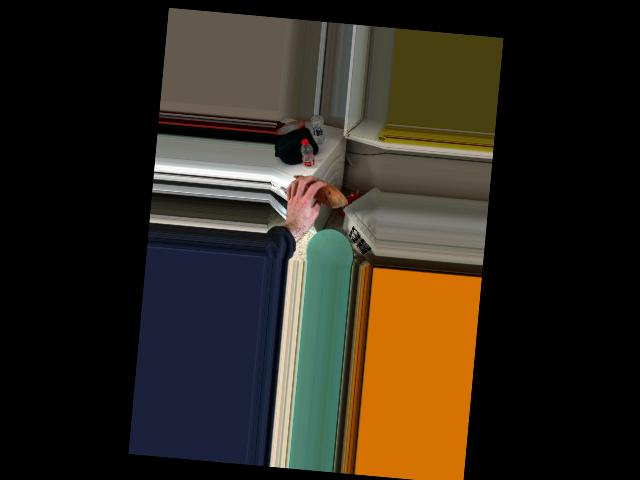sweet_potato: (289, 174, 344, 204)
